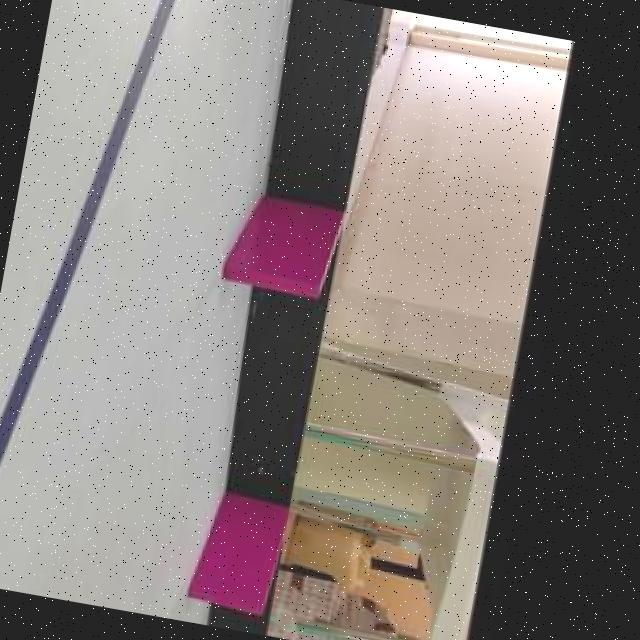xparking: (222, 200, 336, 293), (191, 501, 283, 611)
